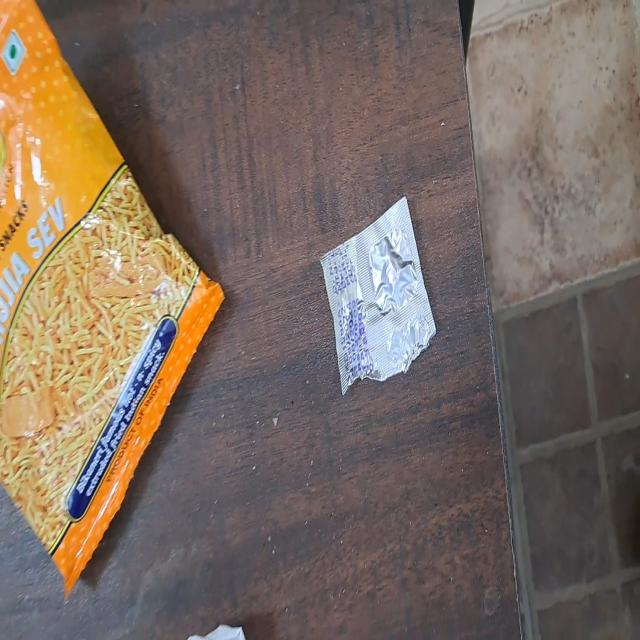Anorganik: (0, 0, 223, 597), (322, 197, 438, 400)
